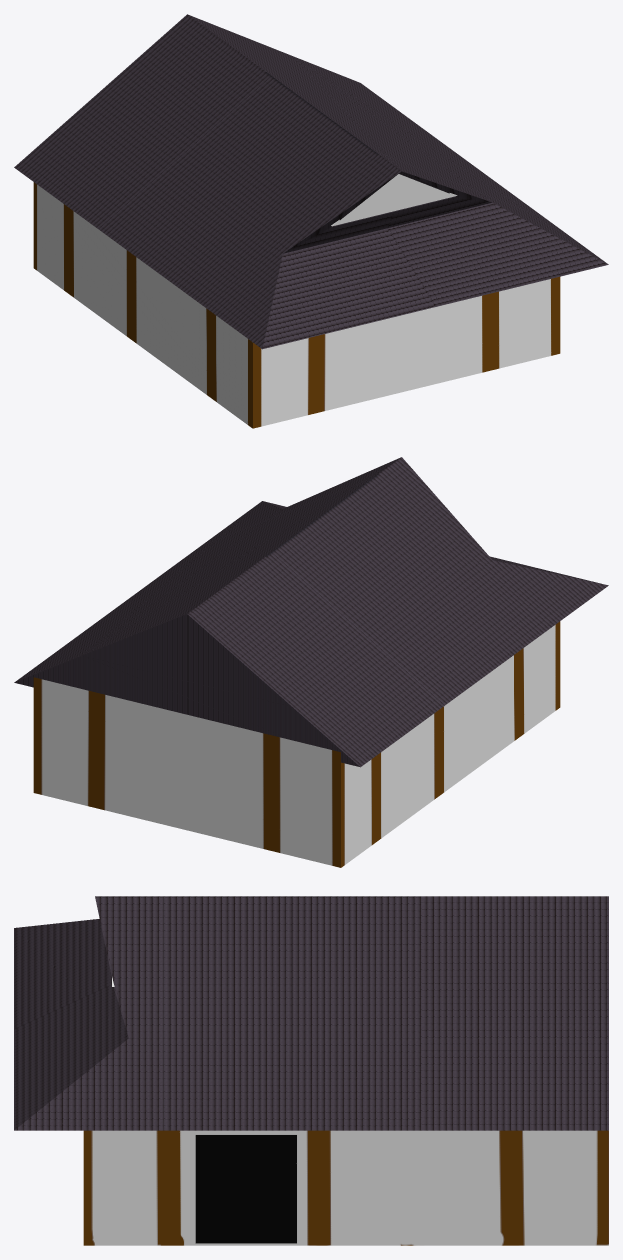
The model's file is yashiki.glb.
3 views of the same model, one above another, from view 1: azimuth 30°, elevation 25°; view 2: azimuth 150°, elevation 25°; view 3: azimuth 270°, elevation 25° (orthographic). The views are drawn at different scales.
Parts seen in each view (by area): view 1: 立方体, Cube, 立方体.001; view 2: 立方体, Cube; view 3: 立方体, Cube.
Part boxes in pixels (x1,y1,x2,y2): 立方体: [14, 14, 608, 349]; Cube: [33, 182, 560, 428]; 立方体.001: [331, 174, 457, 226]; 立方体: [14, 457, 608, 767]; Cube: [33, 621, 560, 867]; 立方体: [14, 896, 608, 1130]; Cube: [83, 1130, 608, 1245].
Size of the model in its own units: 9.63 by 5.75 by 11.95.
3 materials, 2 textured.
